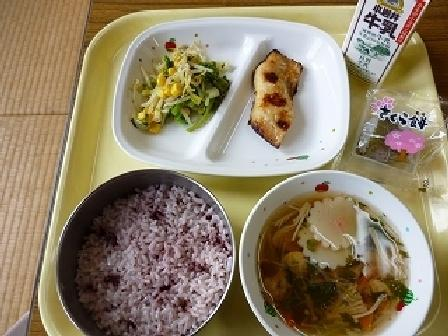Fish: (247, 41, 317, 140)
Milk: (330, 0, 440, 80)
Rice: (55, 170, 235, 335)
Soups: (247, 180, 432, 335)
salad with sauce: (138, 45, 232, 136)
